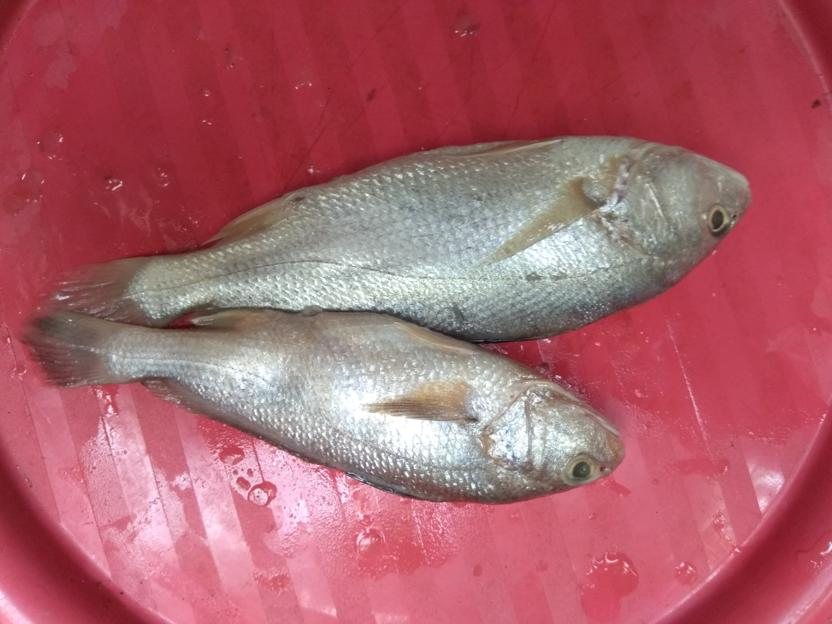Fish head: (617, 137, 754, 278), (487, 380, 626, 505)
Fish tail: (13, 307, 148, 391), (34, 255, 166, 325)
